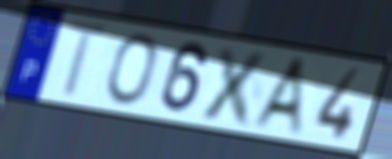4: (310, 65, 364, 144)
6: (159, 41, 210, 115)
A: (248, 55, 310, 140)
O: (103, 31, 159, 108)
T: (59, 16, 115, 100)
X: (196, 43, 275, 131)
